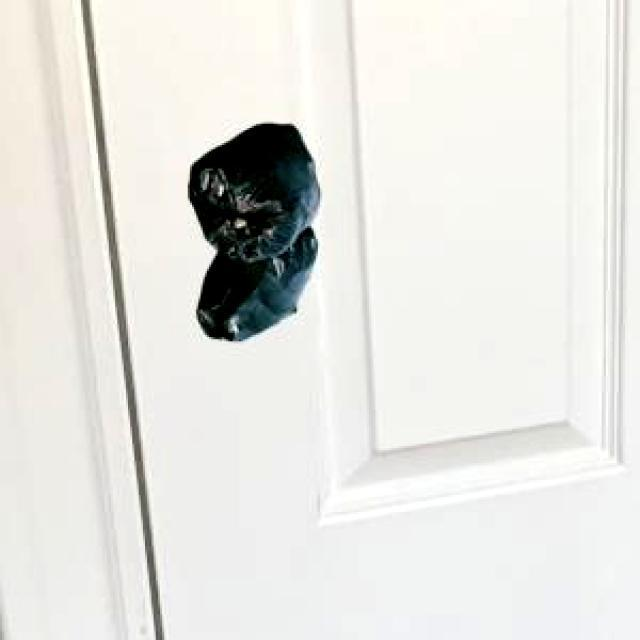Bolsa-de-nilon: (188, 124, 323, 343)
